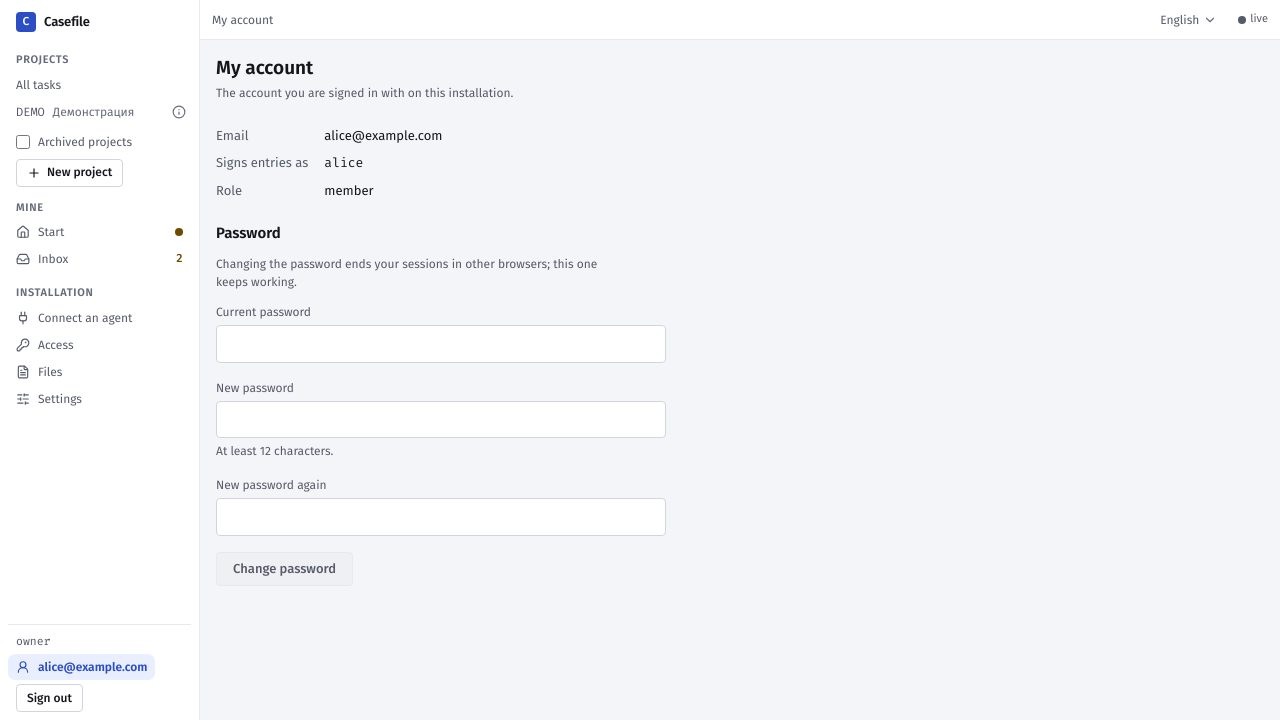
Test case: экран «Моя учётная запись» › смена пароля уходит с прежним паролем, поля очищаются, исход сказан
Type "old password 12" into the password field labelled "Current password" at [441, 344], box [216,325,666,362]
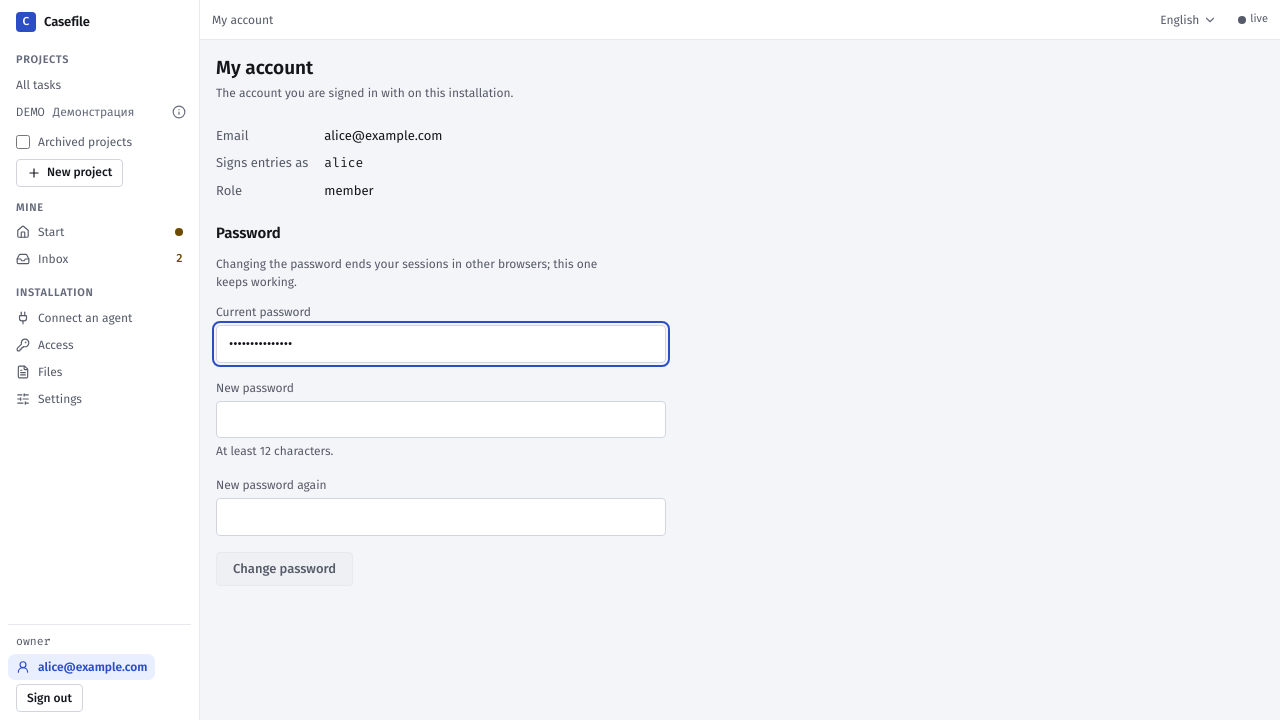
Type "new password 1234" into the password field labelled "New password" at [441, 419], box [216,400,666,438]
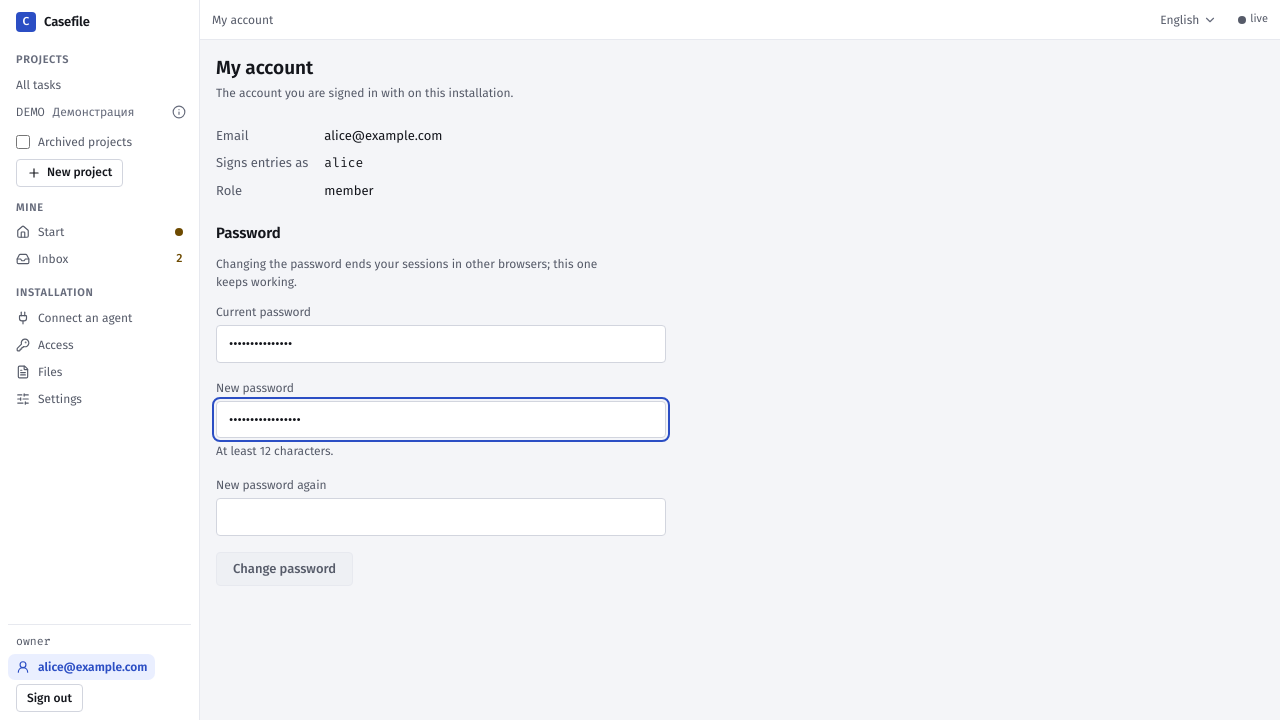
Type "new password 1234" into the password field labelled "New password again" at [441, 517], box [216,498,666,536]
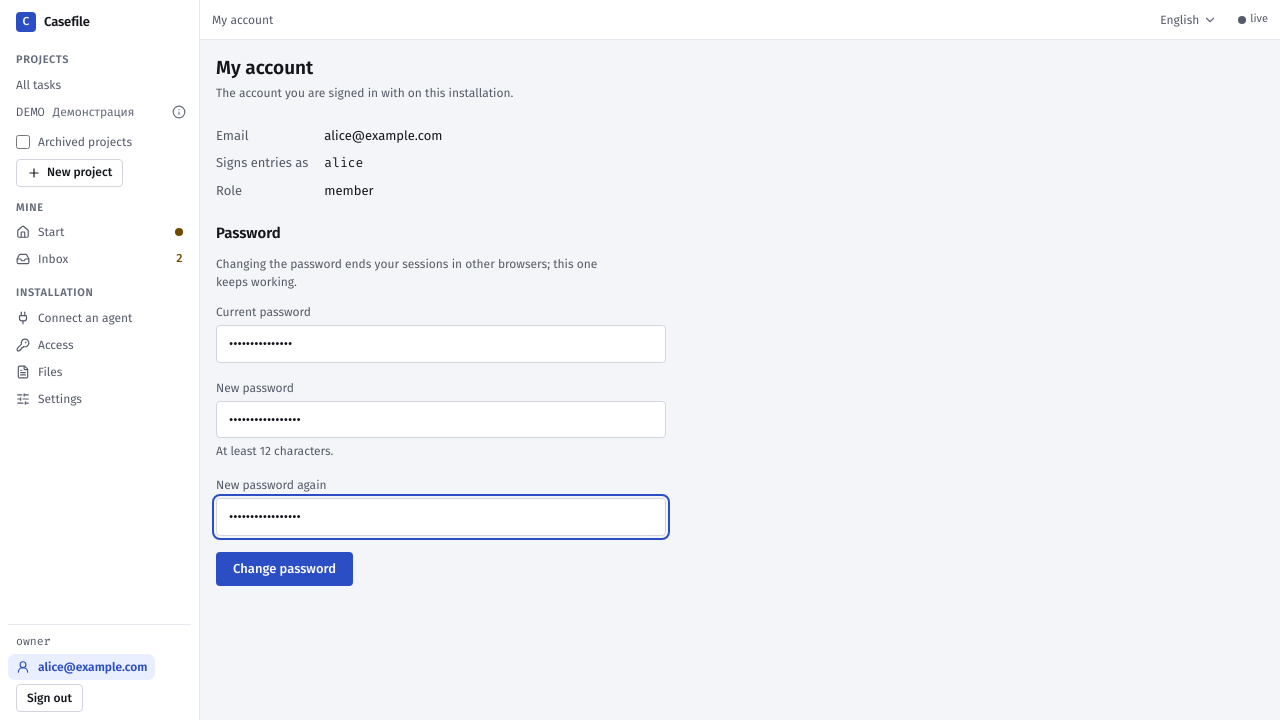
Click the button "Change password" at [284, 568], box [216,552,353,586]
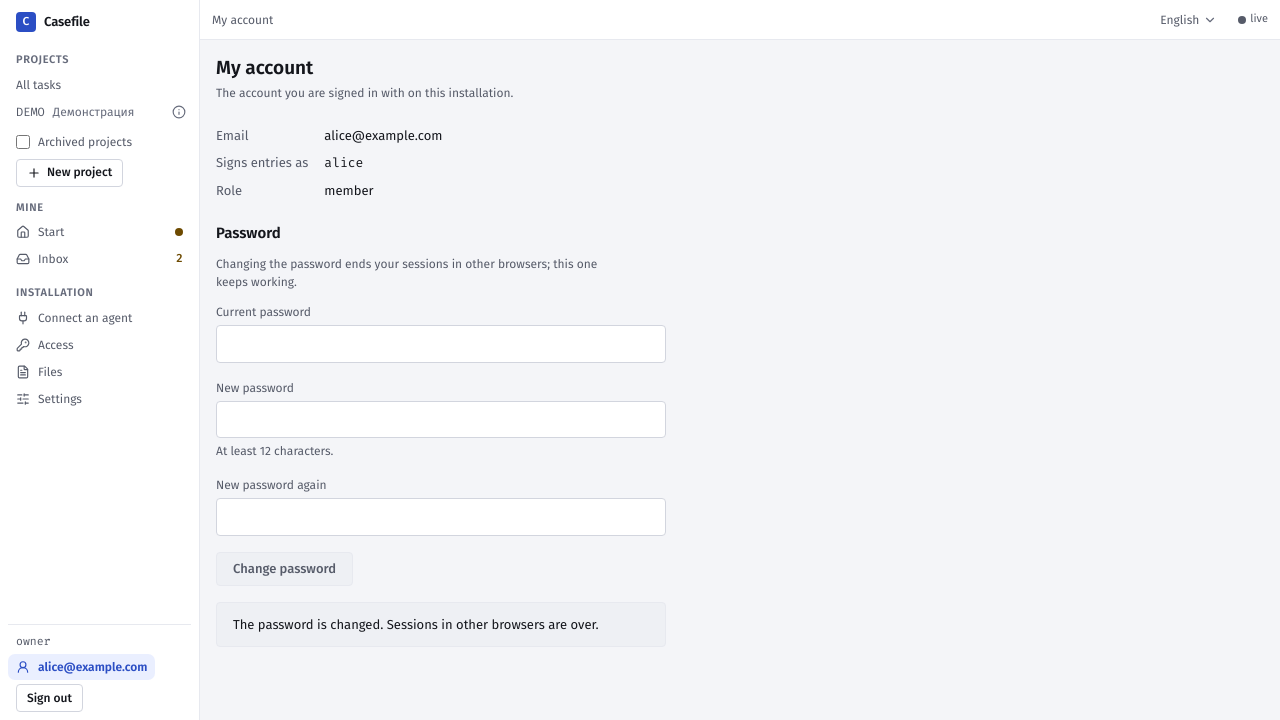
Check: the text "The password is changed. Sessions in other browsers are over." is shown, box [216,602,666,647]
Check: the password field labelled "New password" is empty, box [216,400,666,438]
